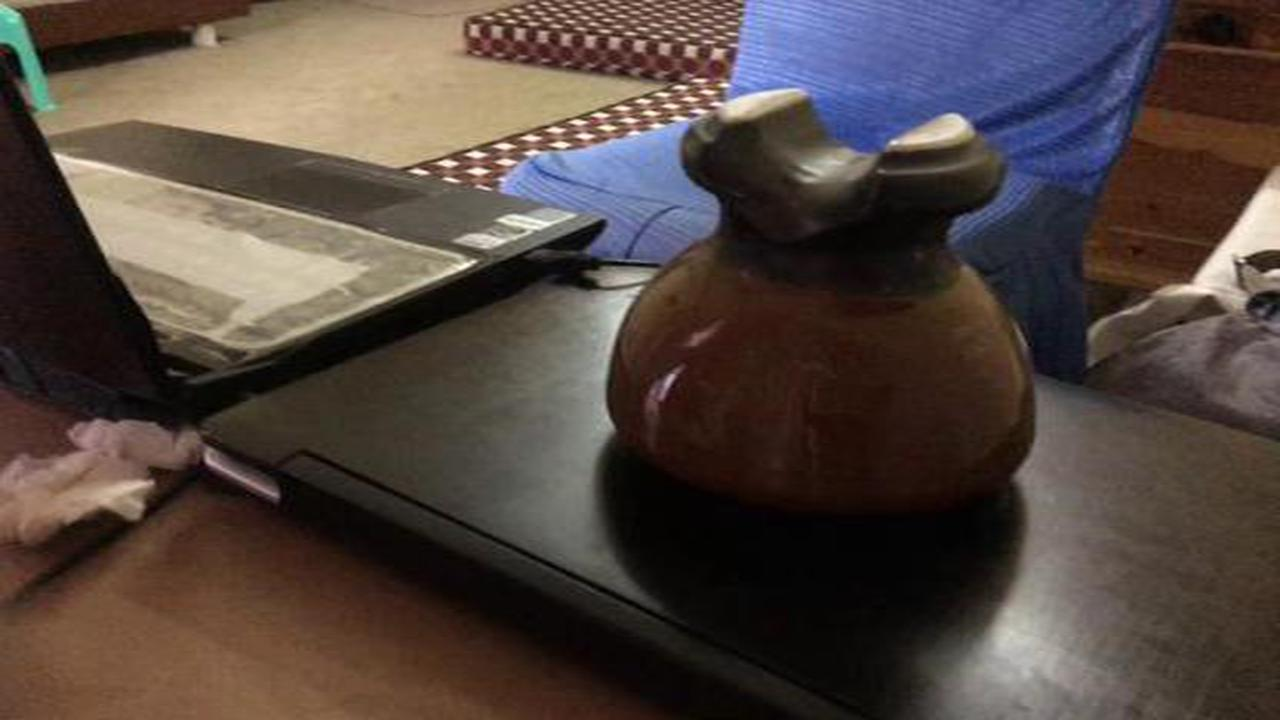insulator_pin: (594, 84, 1062, 532)
